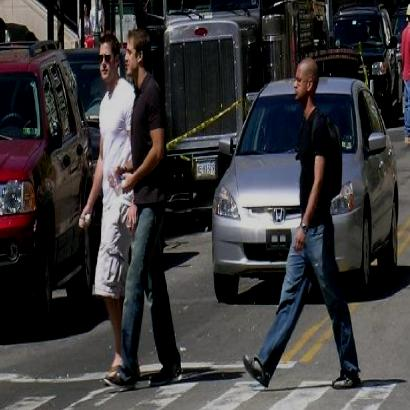ped: (244, 58, 360, 387), (111, 30, 182, 385), (79, 34, 137, 374)
